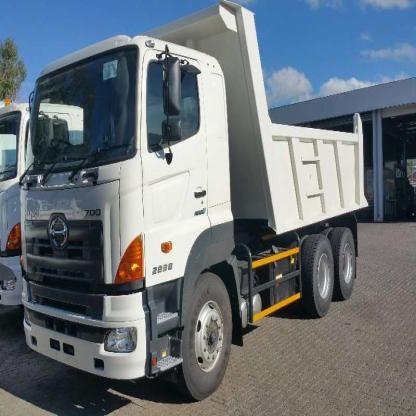dump_truck: (10, 1, 370, 404)
